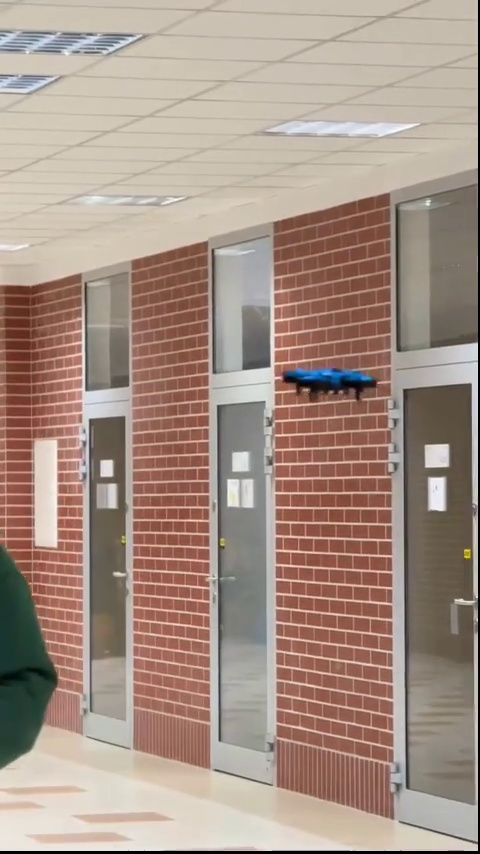drone: (283, 361, 370, 395)
